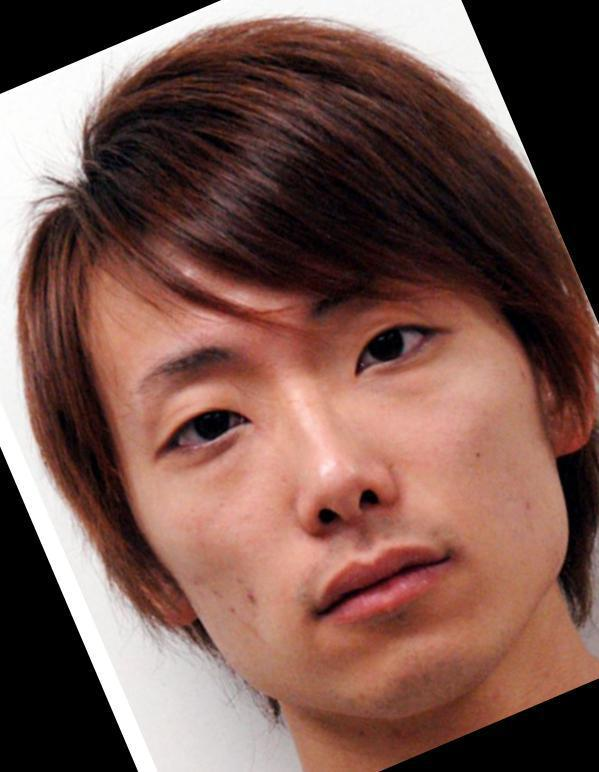Sober: (111, 219, 538, 703)
